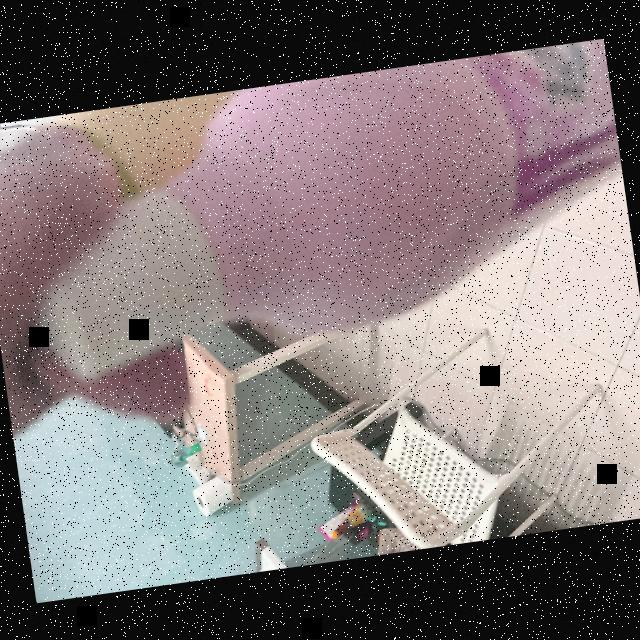chemical_plastic_bottle: (22, 38, 640, 397)
